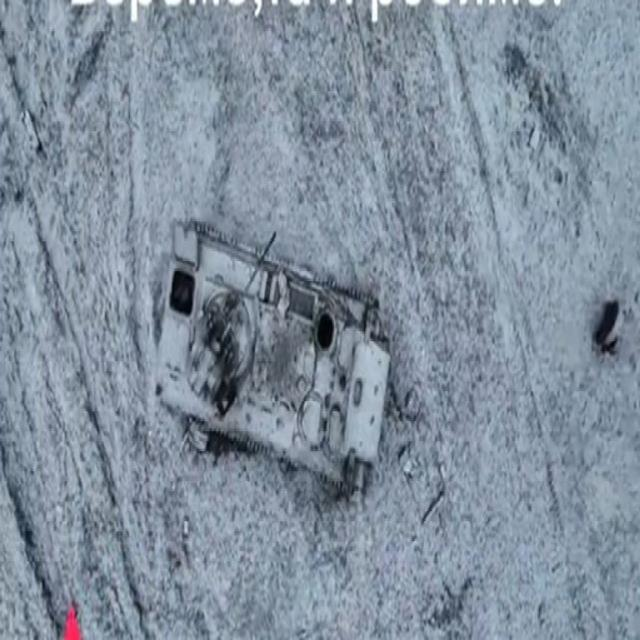APC-IFV: (145, 200, 393, 507)
